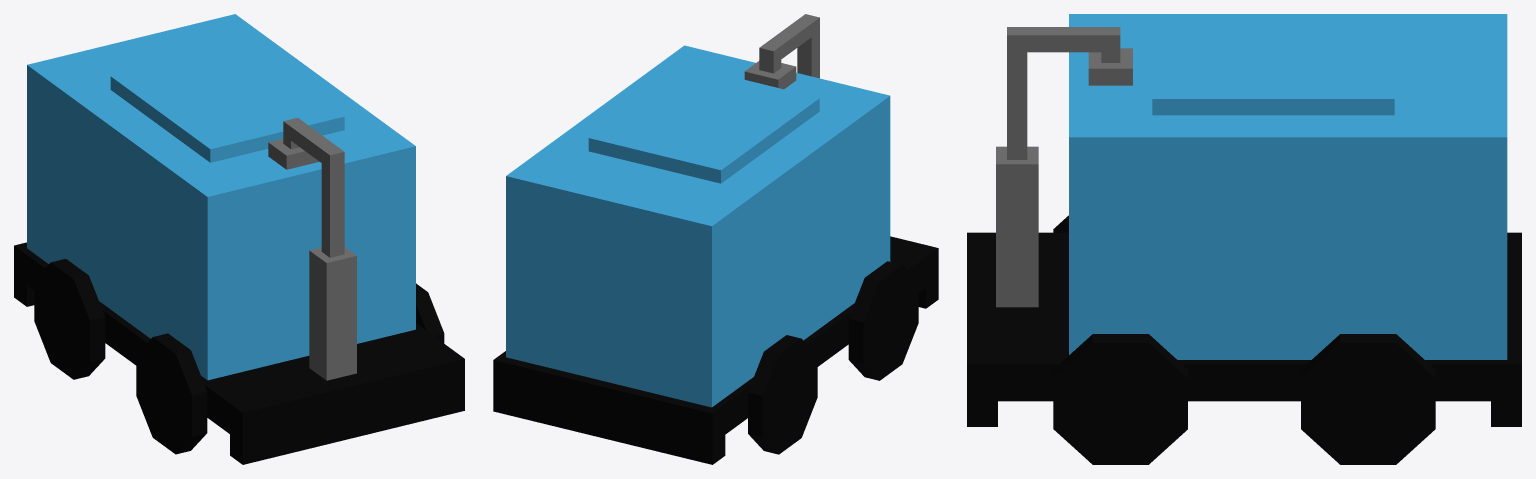
Rendered from water_tank.fbx.
3 renders of one model, left to right at view 1: azimuth 30°, elevation 25°; view 2: azimuth 150°, elevation 25°; view 3: azimuth 270°, elevation 25°, orthographic. The views are drawn at different scales.
Visible parts, largest first — view 1: Cube.004, Cube.003, Cube.005, Circle.006, Circle.008, Circle.009; view 2: Cube.004, Cube.003, Circle.008, Circle.006, Cube.005; view 3: Cube.004, Cube.003, Circle.007, Circle.009, Cube.005.
Part boxes in pixels (x1,y1,x2,y2): Cube.004: (27,14,415,380); Cube.003: (14,242,464,464); Cube.005: (268,117,356,380); Circle.006: (34,259,105,379); Circle.008: (136,333,207,454); Circle.009: (416,283,444,343); Cube.004: (506,45,890,407); Cube.003: (493,236,938,464); Circle.008: (848,261,918,380); Circle.006: (748,335,817,454); Cube.005: (744,14,819,89); Cube.004: (1069,14,1507,359); Cube.003: (967,232,1521,426); Circle.007: (1301,334,1435,464); Circle.009: (1053,334,1187,464); Cube.005: (996,27,1132,307).
Size of the model in its own units: 288 by 323 by 452.
